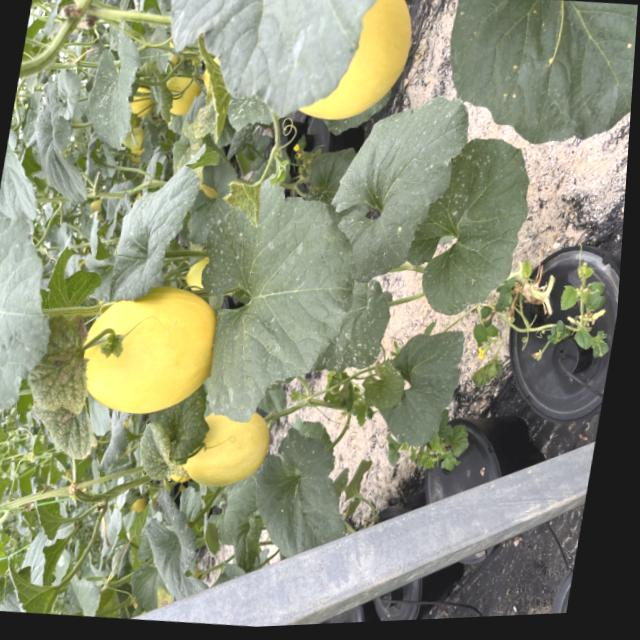SLCV: (214, 164, 273, 231)
alternaria leaf blight: (22, 309, 102, 414), (22, 390, 103, 461), (132, 418, 194, 485)
downy mildew: (433, 0, 639, 160), (130, 488, 223, 609)
healthy: (0, 210, 70, 428), (20, 90, 105, 213), (0, 563, 78, 618), (31, 489, 68, 543), (36, 529, 70, 586)
powdery mildew: (193, 191, 364, 427), (322, 96, 461, 287), (397, 126, 537, 310), (102, 141, 216, 312), (241, 414, 367, 566), (71, 19, 147, 157), (381, 322, 462, 448), (311, 271, 393, 376)
